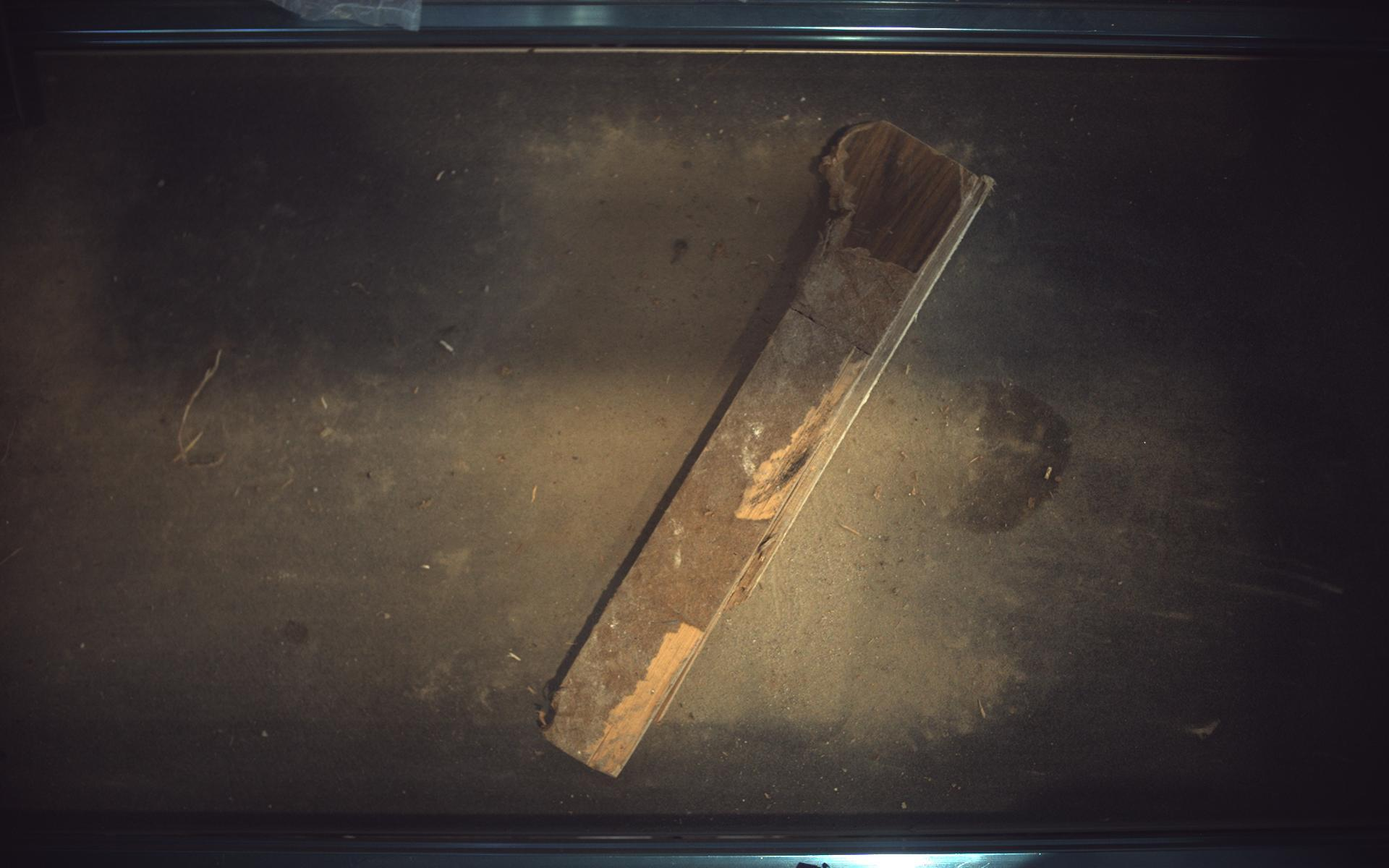wood: (546, 121, 995, 778)
